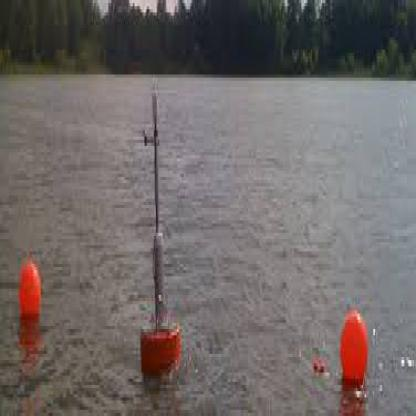buoy: (130, 87, 186, 407)
